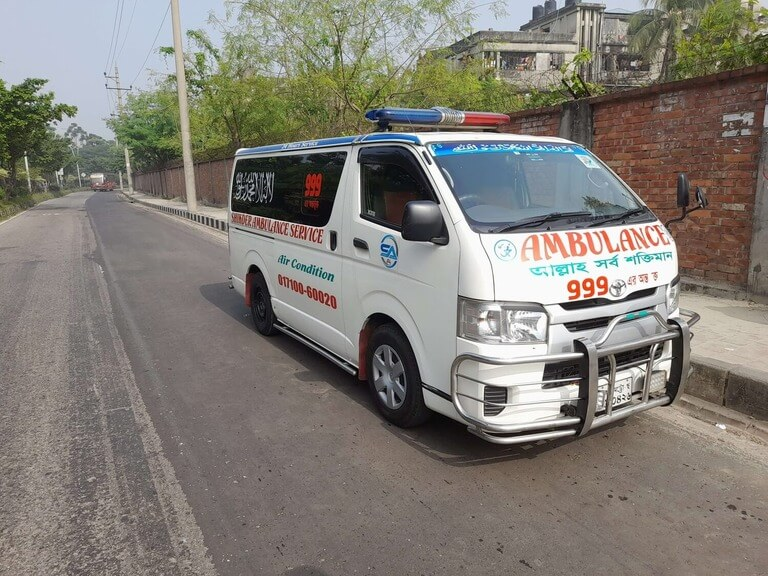Ambulance: (213, 90, 722, 494)
Bus: (88, 171, 126, 198)
